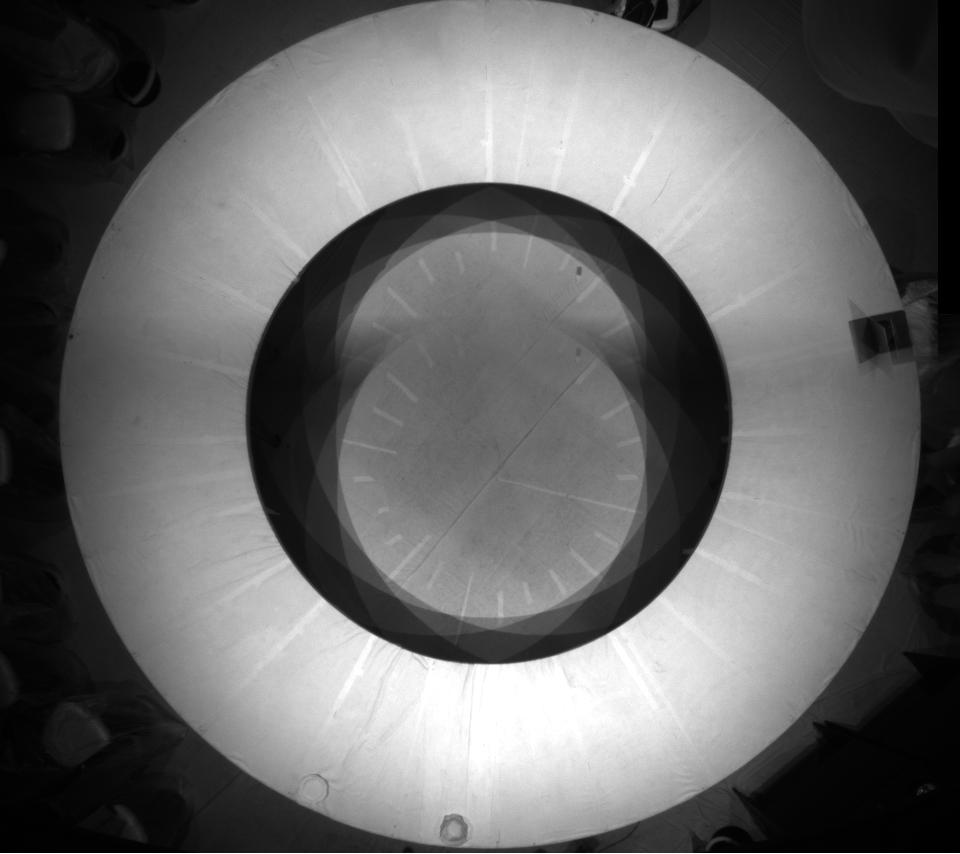Plate: (436, 810, 474, 847)
